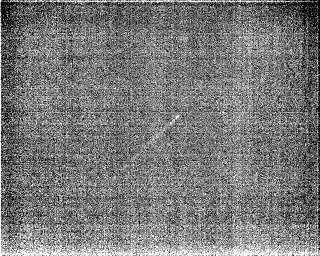AIRPLANE: (130, 114, 181, 155)
